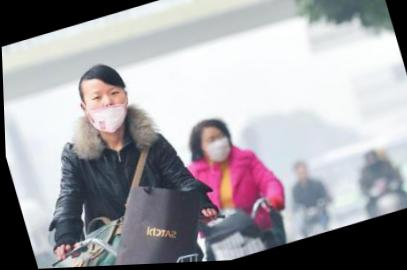OK: (199, 132, 233, 169)
WRONG: (80, 83, 133, 137)
